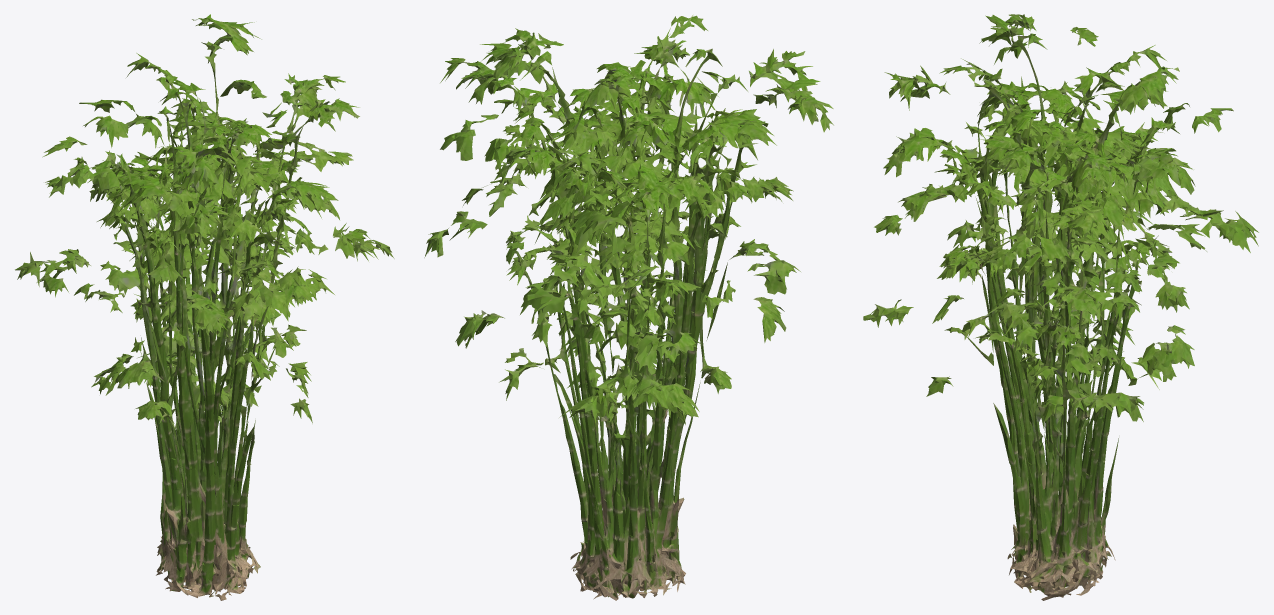
File: remeshed-bamboo80.glb
3 views of the same model, side by side, from view 1: azimuth 30°, elevation 25°; view 2: azimuth 150°, elevation 25°; view 3: azimuth 270°, elevation 25° (orthographic). The views are drawn at different scales.
Visible parts, largest first — view 1: output_unwrapped; view 2: output_unwrapped; view 3: output_unwrapped.
Boxes of the visible parts, box(x1,y1,x2,y2) form: output_unwrapped: box(15, 14, 394, 600); output_unwrapped: box(424, 15, 833, 600); output_unwrapped: box(863, 14, 1258, 600).
Size of the model in its own units: 1.22 by 1.83 by 1.2.
Materials: 1 (1 with a texture image).
